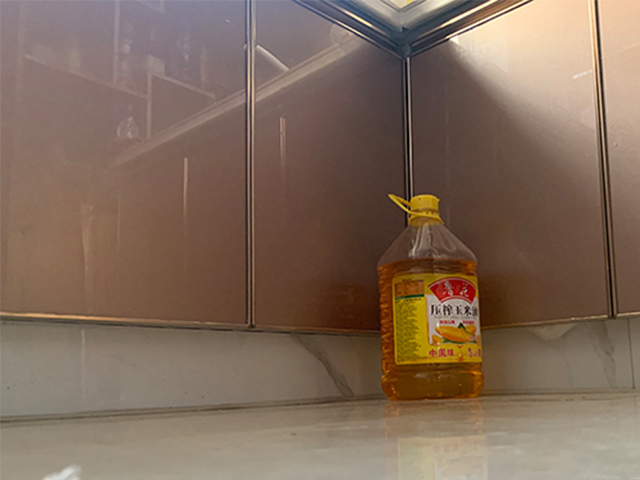cabinet: (1, 1, 402, 421), (402, 1, 640, 399)
